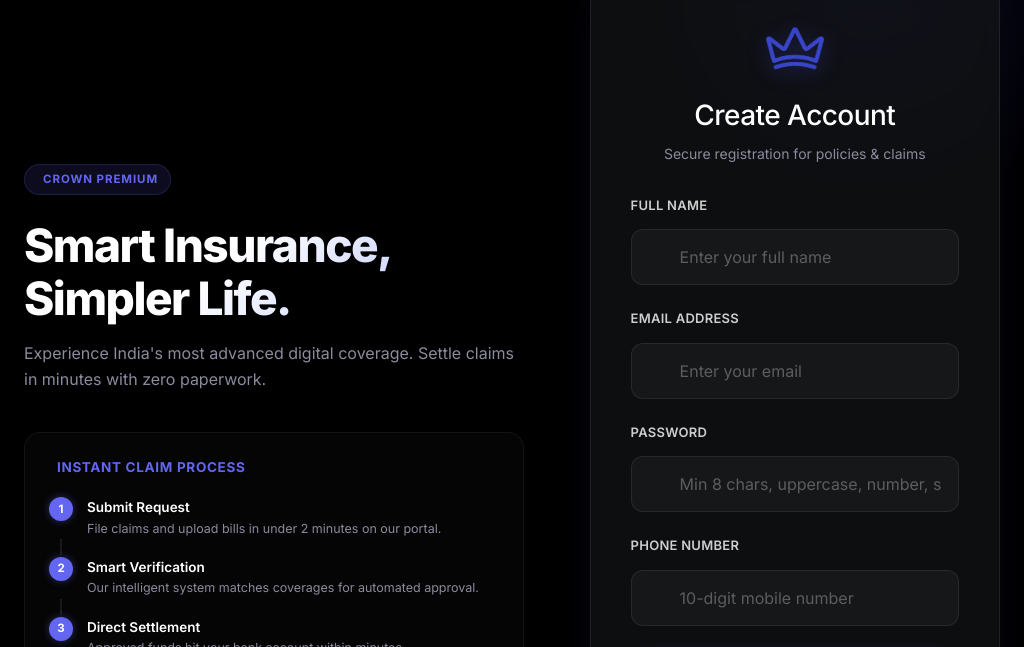
Test: Register Page › shows password complexity error
Type "Test User" into the field with placeholder "Enter your full name". click: (795, 257)
box: [631, 229, 959, 285]
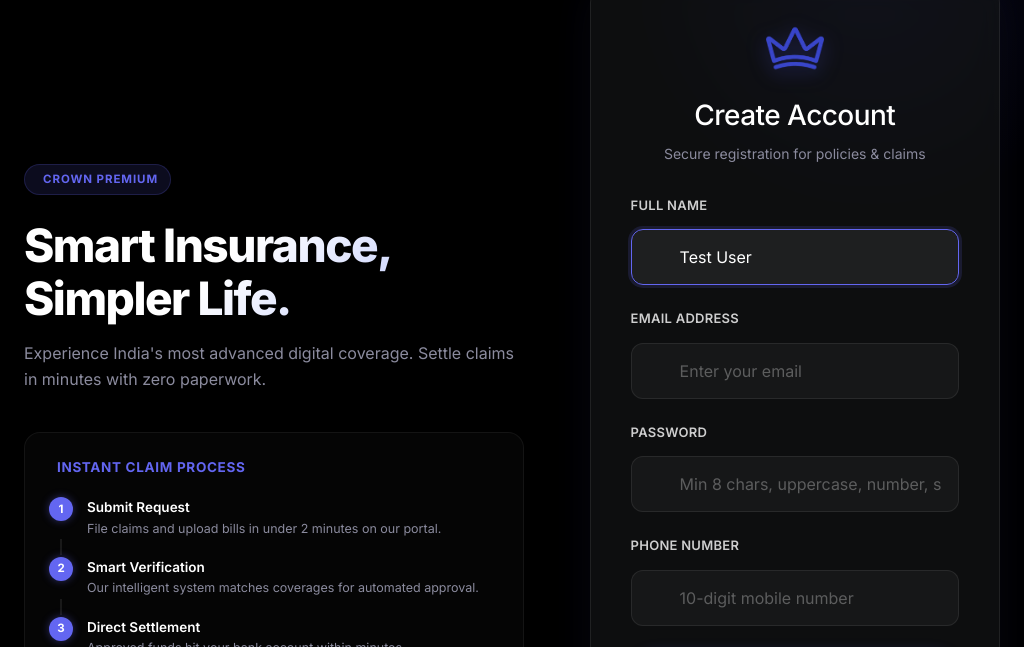
Type "test@test.com" into the field with placeholder "Enter your email". click: (795, 371)
box: [631, 343, 959, 399]
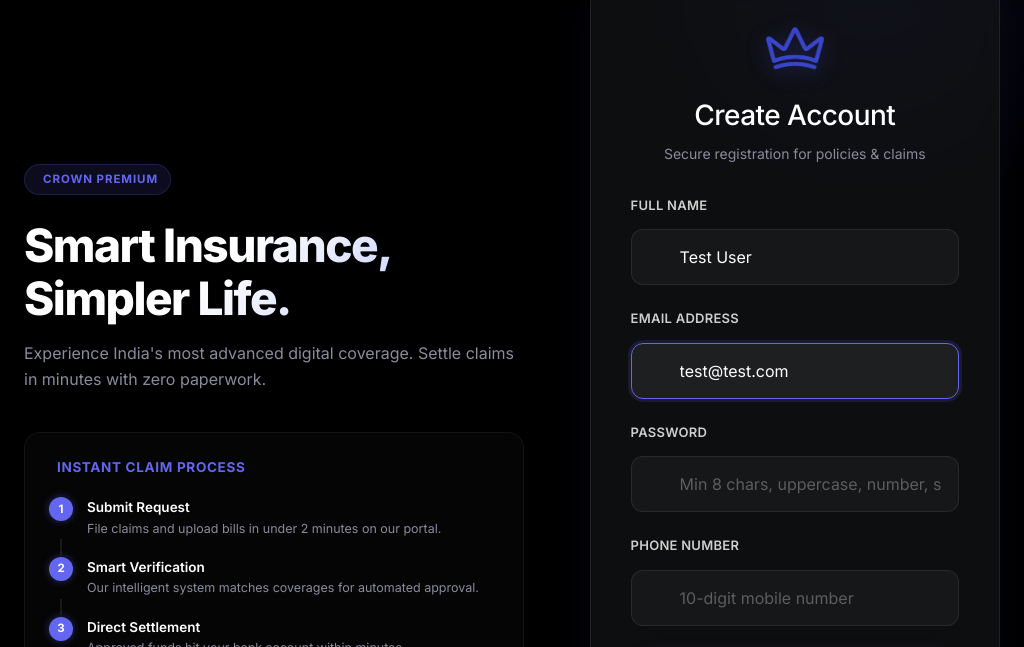
Type "simplepassword" into the password field with placeholder "Min 8 chars, uppercase, number, special char". click: (795, 484)
box: [631, 456, 959, 512]
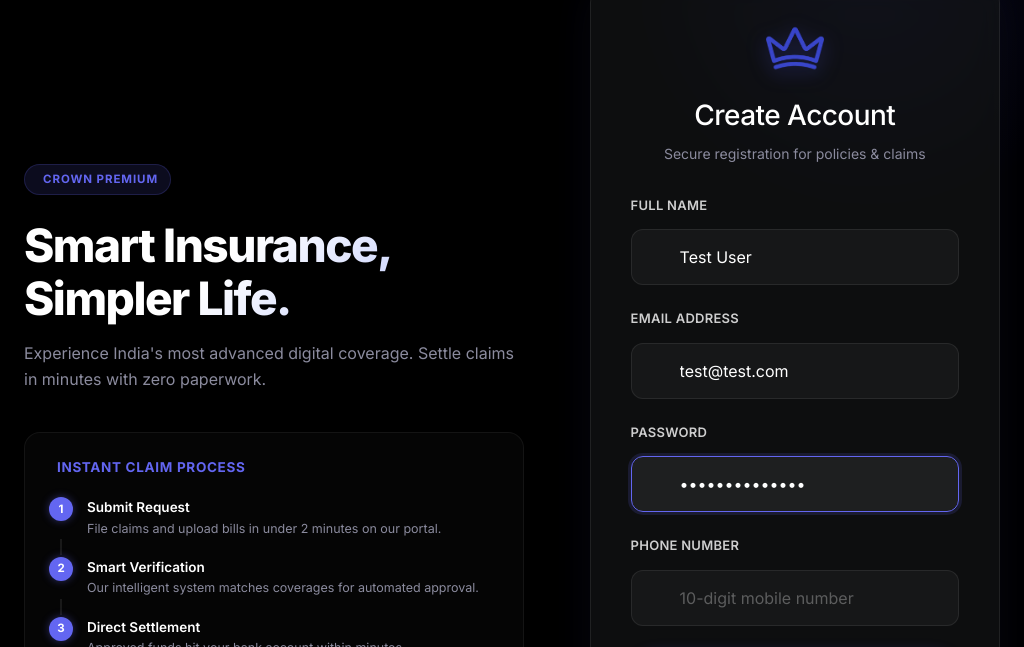
Type "9876543210" into the field with placeholder "10-digit mobile number". click: (795, 598)
box: [631, 570, 959, 626]
(page scrolled)
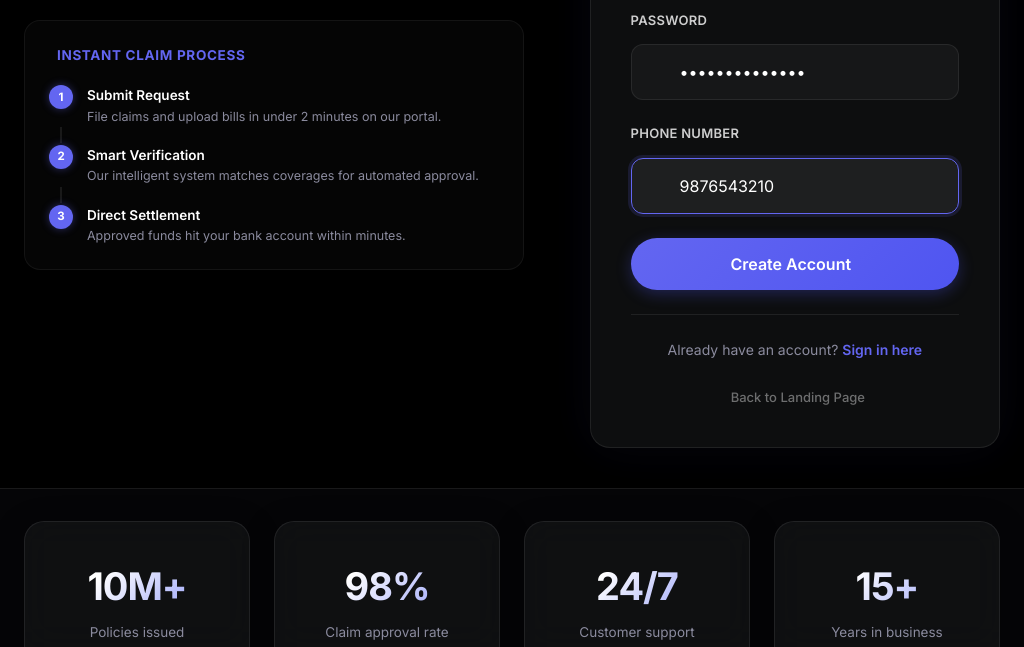
Click the button "Create Account". click: (795, 264)
box: [631, 238, 959, 290]
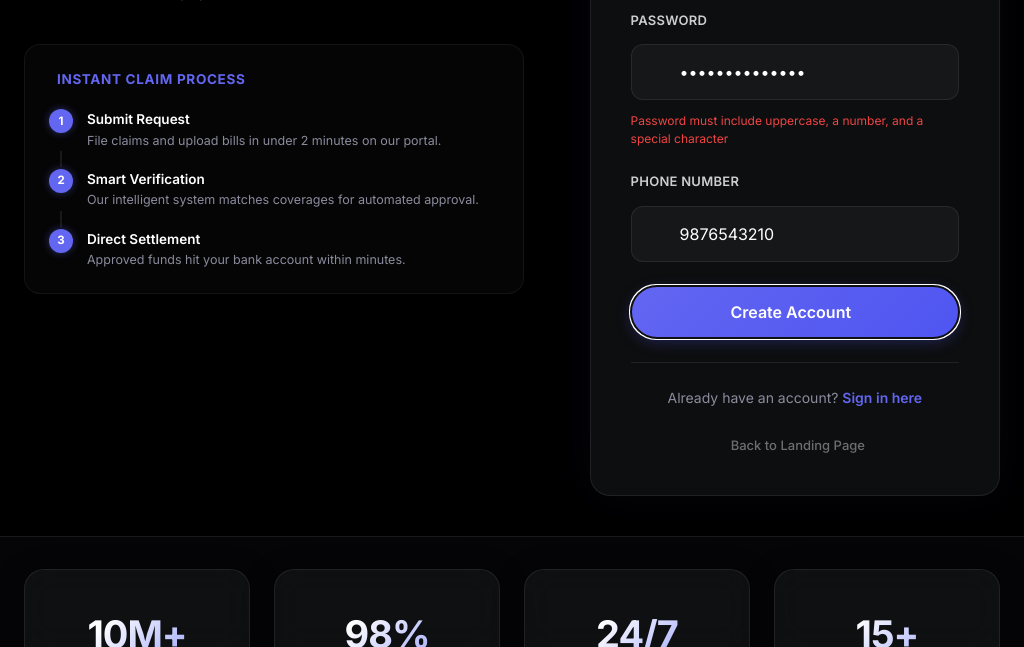
Result: the text "Password must include uppercase" is shown at [631, 113, 923, 146]
